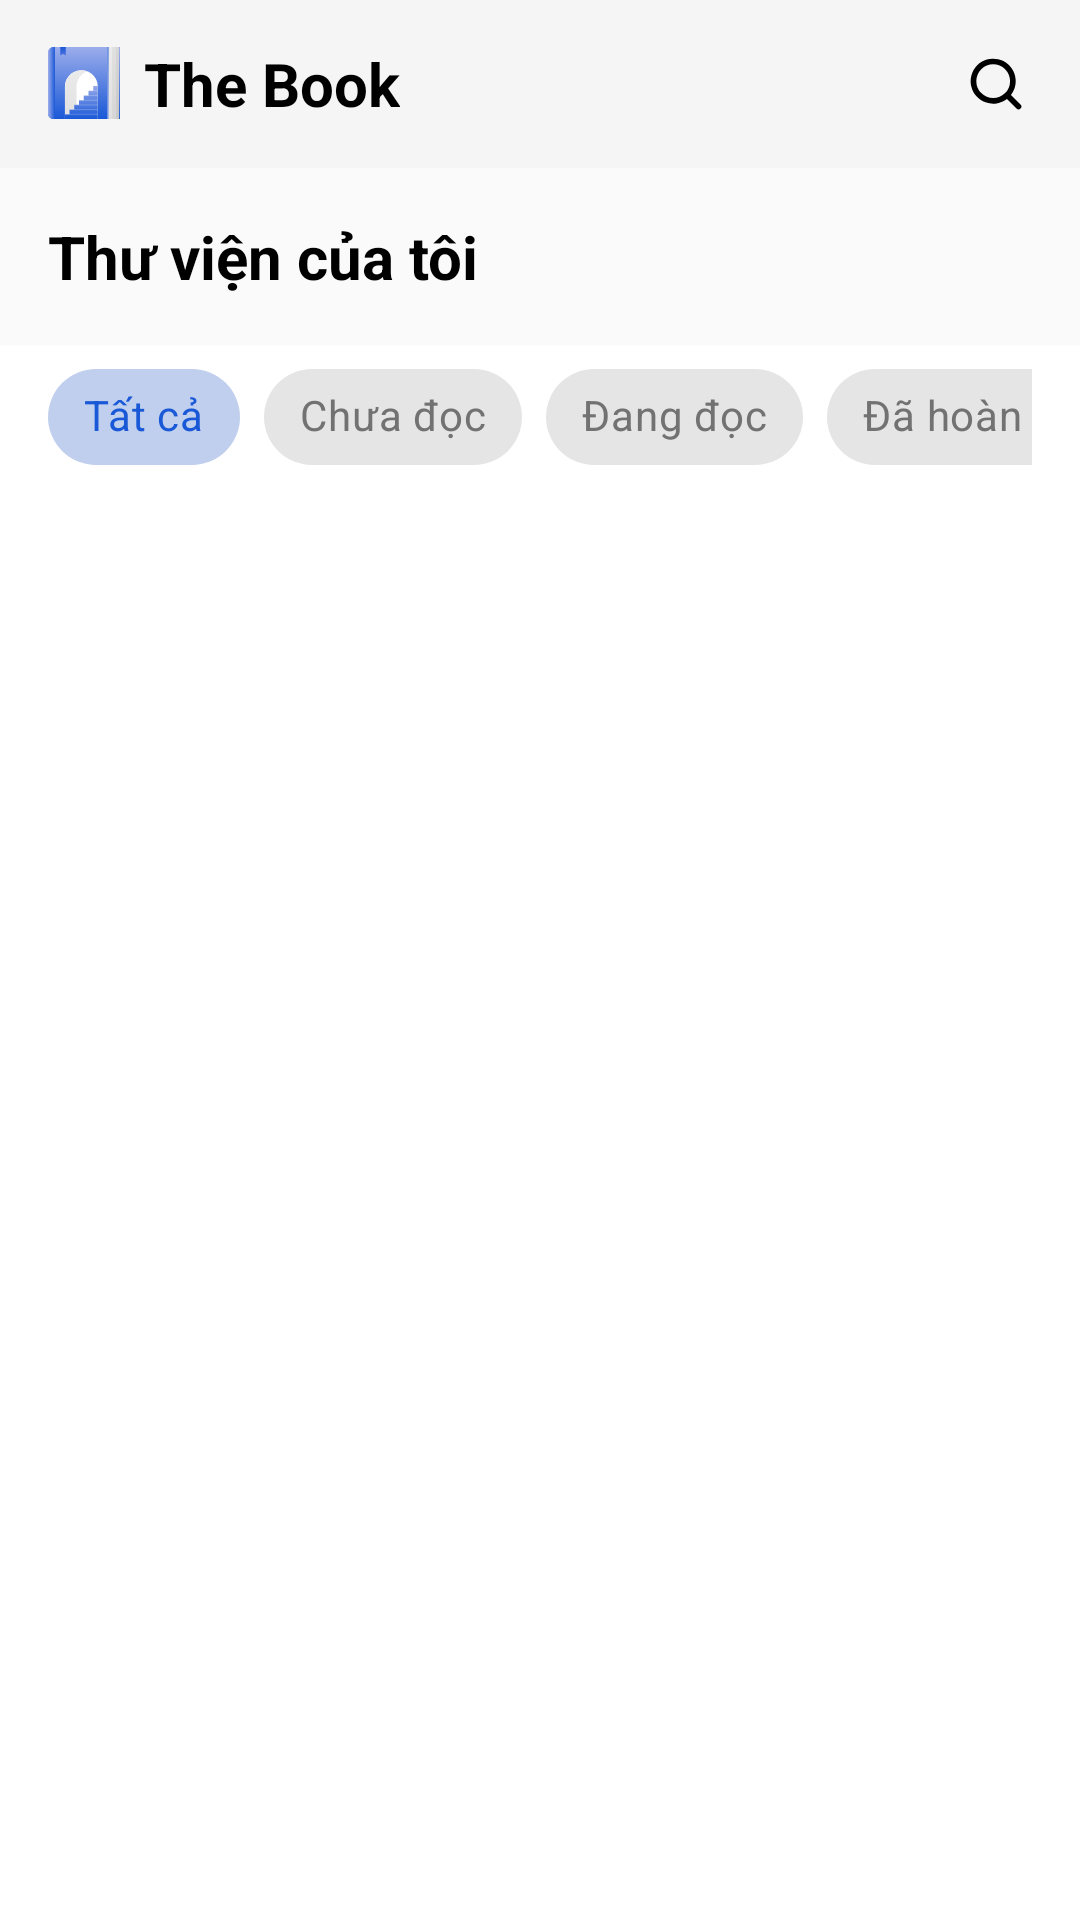

Icons on this 1080px x 1920px Android screen, each with its box as (x1=x1, y1=y1, x2=x2, y2=y2):
search: (x1=970, y1=58, x2=1022, y2=110)
